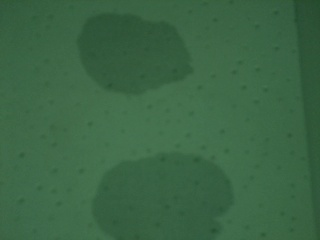Water_detected: (106, 156, 207, 236), (82, 14, 171, 77)
